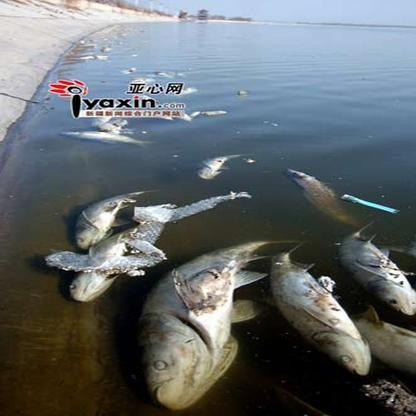deceased fish: (141, 233, 272, 412), (268, 247, 371, 376), (339, 227, 416, 315), (73, 189, 147, 249), (57, 126, 157, 150), (196, 150, 244, 180)
